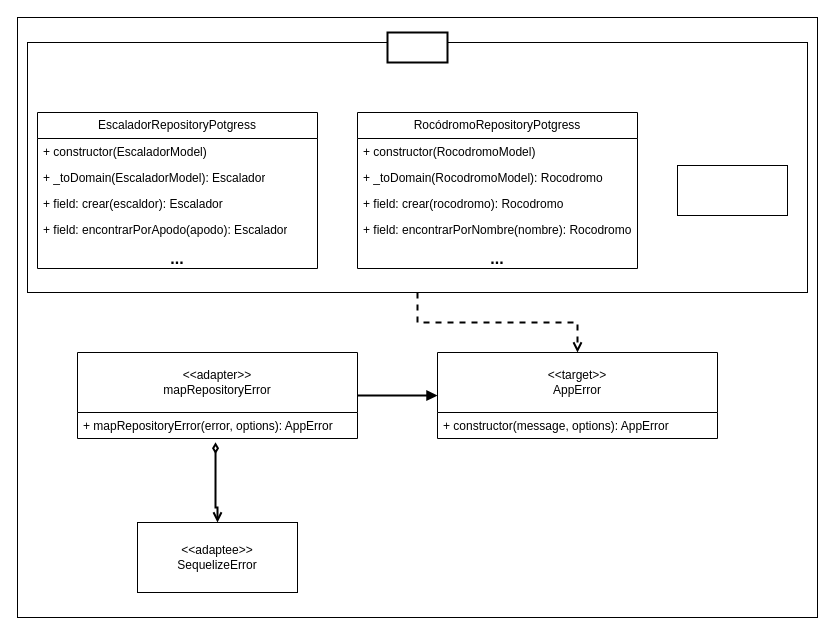
This 835x635 diagram has some shape labels left out. Here are the shapes that lost their labels. From the top down, the centre of each, then its label:
At pixel 417 47: "Cliente".
At pixel 732 190: "Otros Repository".
